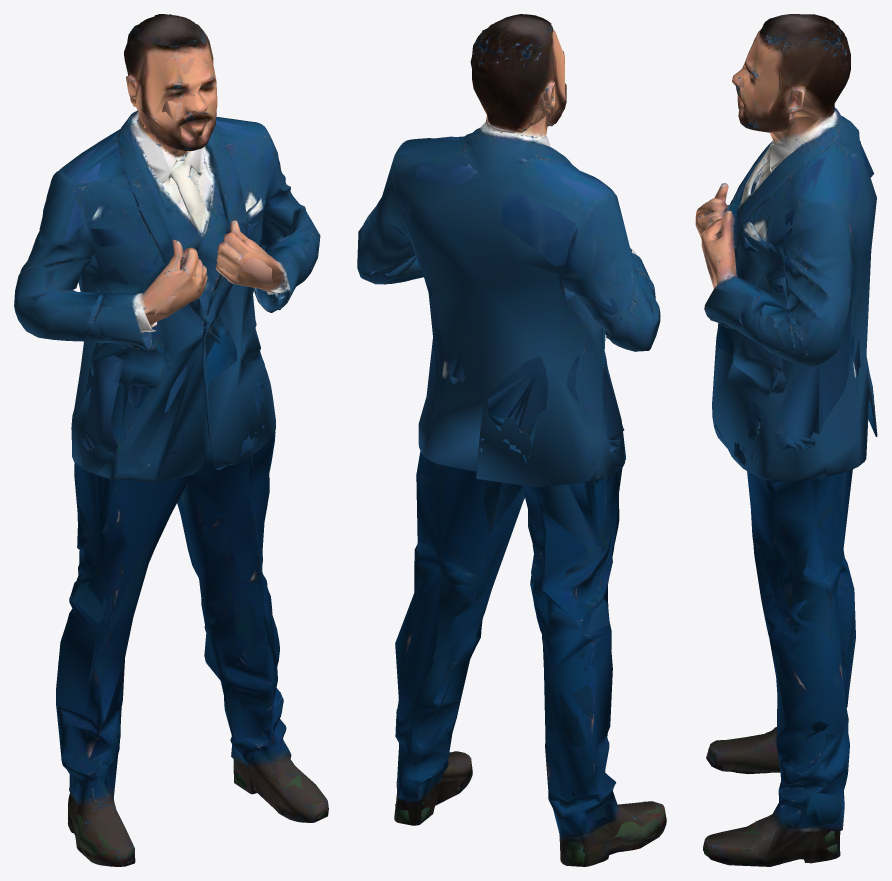
Rendered from boneco-jonatas.min.512.glb.
3 views of the same model, side by side, from view 1: azimuth 30°, elevation 25°; view 2: azimuth 150°, elevation 25°; view 3: azimuth 270°, elevation 25° (orthographic). The views are drawn at different scales.
Visible parts, largest first — view 1: mesh_node; view 2: mesh_node; view 3: mesh_node.
Boxes of the visible parts, x1,y1,x2,y2 form: mesh_node: (14, 14, 328, 866); mesh_node: (357, 14, 666, 866); mesh_node: (695, 14, 877, 866).
Bounding box in the file's own units: 0.733 × 1.9 × 0.3953.
Materials: 1 (1 with a texture image).
